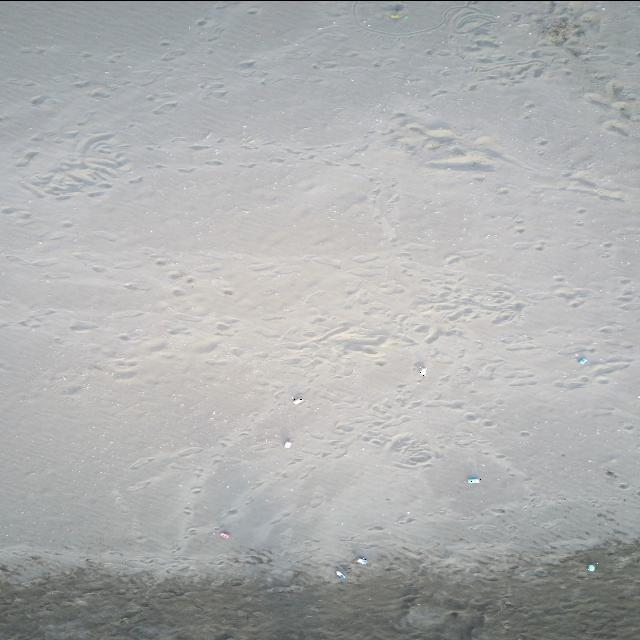Garbage: (335, 569, 345, 580), (355, 555, 367, 564), (467, 475, 480, 483), (577, 355, 588, 364), (292, 395, 303, 404), (219, 531, 230, 539), (587, 563, 596, 572), (420, 367, 427, 375), (283, 441, 291, 447)
